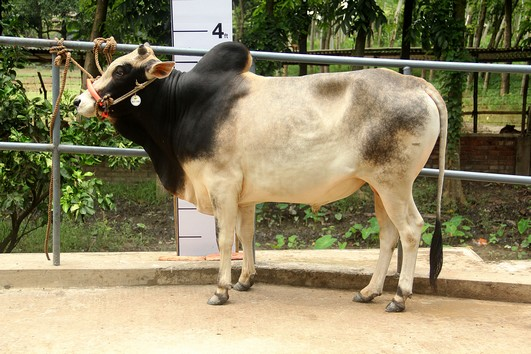cow: (66, 33, 446, 317)
